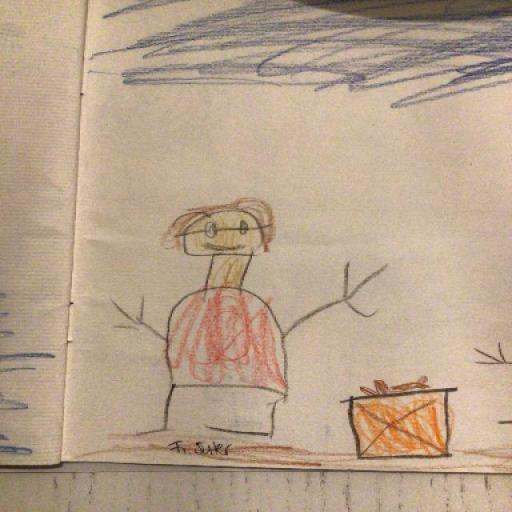person: (104, 188, 390, 456)
